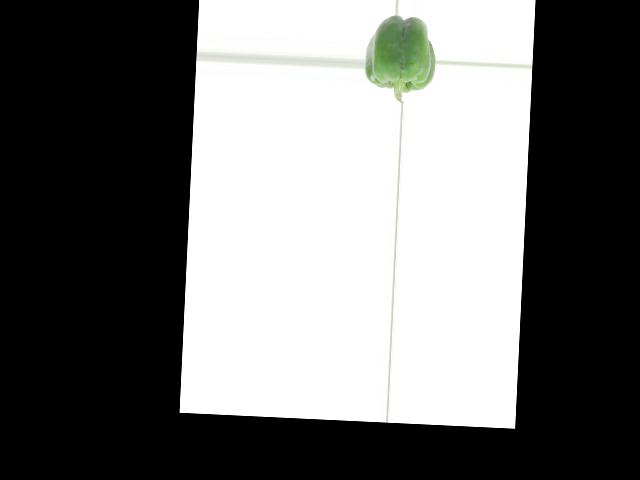bell_pepper: (365, 13, 437, 102)
